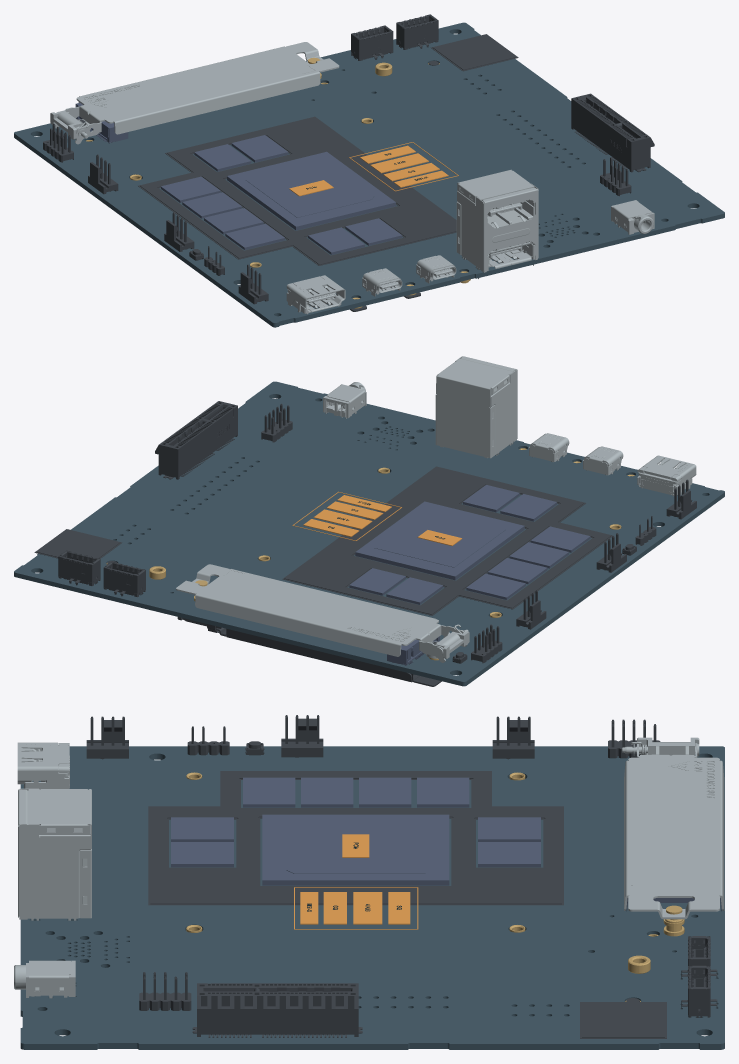
File: framework-desktop.glb
3 views of the same model, one above another, from view 1: azimuth 30°, elevation 25°; view 2: azimuth 150°, elevation 25°; view 3: azimuth 270°, elevation 25° (orthographic). The views are drawn at different scales.
Parts seen in each view (by area): view 1: fw_cad_board, fw_cad_packages, fw_cad_86, fw_cad_spreader, fw_cad_12, fw_cad_57, fw_cad_87, fw_cad_08, fw_cad_88, fw_cad_55, fw_cad_56, fw_cad_11 (+9 smaller); view 2: fw_cad_board, fw_cad_packages, fw_cad_86, fw_cad_spreader, fw_cad_12, fw_cad_57, fw_cad_33, fw_cad_87, fw_cad_08, fw_cad_88, fw_cad_55, fw_cad_56 (+10 smaller); view 3: fw_cad_board, fw_cad_packages, fw_cad_86, fw_cad_spreader, fw_cad_12, fw_cad_57, fw_cad_88, fw_cad_87, fw_cad_08, fw_cad_11, fw_cad_59, fw_cad_60 (+12 smaller).
Boxes of the visible parts, x1,y1,x2,y2 form: fw_cad_board: (14, 22, 724, 327); fw_cad_packages: (161, 135, 402, 254); fw_cad_86: (140, 117, 456, 264); fw_cad_spreader: (55, 42, 339, 144); fw_cad_12: (456, 169, 538, 278); fw_cad_57: (571, 93, 654, 172); fw_cad_87: (138, 116, 456, 265); fw_cad_08: (286, 275, 345, 314); fw_cad_88: (432, 34, 516, 70); fw_cad_55: (351, 25, 393, 60); fw_cad_56: (396, 14, 438, 49); fw_cad_11: (611, 200, 654, 234); fw_cad_board: (14, 381, 724, 686); fw_cad_packages: (349, 485, 590, 604); fw_cad_86: (284, 467, 611, 614); fw_cad_spreader: (176, 564, 467, 662); fw_cad_12: (435, 356, 517, 458); fw_cad_57: (155, 401, 237, 479); fw_cad_33: (185, 619, 441, 686); fw_cad_87: (282, 466, 612, 615); fw_cad_08: (637, 455, 696, 496); fw_cad_88: (36, 529, 120, 558); fw_cad_55: (103, 561, 145, 597); fw_cad_56: (58, 550, 100, 585); fw_cad_board: (20, 746, 724, 1049); fw_cad_packages: (171, 777, 540, 885); fw_cad_86: (150, 771, 561, 904); fw_cad_spreader: (624, 743, 724, 919); fw_cad_12: (18, 788, 91, 920); fw_cad_57: (192, 983, 362, 1037); fw_cad_88: (582, 1002, 664, 1037); fw_cad_87: (148, 771, 563, 905); fw_cad_08: (17, 742, 69, 789); fw_cad_11: (14, 960, 75, 998); fw_cad_59: (281, 715, 323, 757); fw_cad_60: (492, 716, 534, 759).
Bounding box in the file's own units: 0.17 × 0.0353 × 0.1716.
